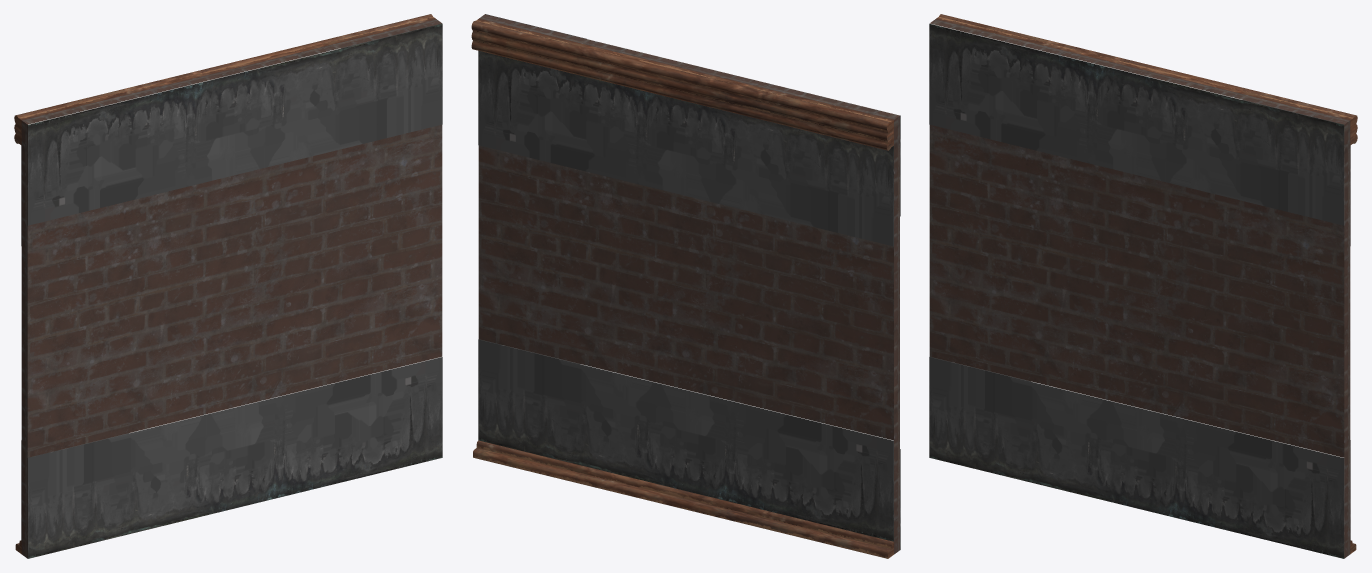
The model's file is Kit_BricksOldWoodEmpty.fbx.
3 views of the same model, side by side, from view 1: azimuth 30°, elevation 25°; view 2: azimuth 150°, elevation 25°; view 3: azimuth 330°, elevation 25° (orthographic).
Visible parts, largest first — view 1: Kit_BricksOldWoodEmpty; view 2: Kit_BricksOldWoodEmpty; view 3: Kit_BricksOldWoodEmpty.
Boxes of the visible parts, bbox=[...] form: Kit_BricksOldWoodEmpty: bbox=[14, 14, 442, 558]; Kit_BricksOldWoodEmpty: bbox=[471, 14, 900, 558]; Kit_BricksOldWoodEmpty: bbox=[929, 14, 1357, 558].
Size of the model in its own units: 157 by 158 by 8.99.
